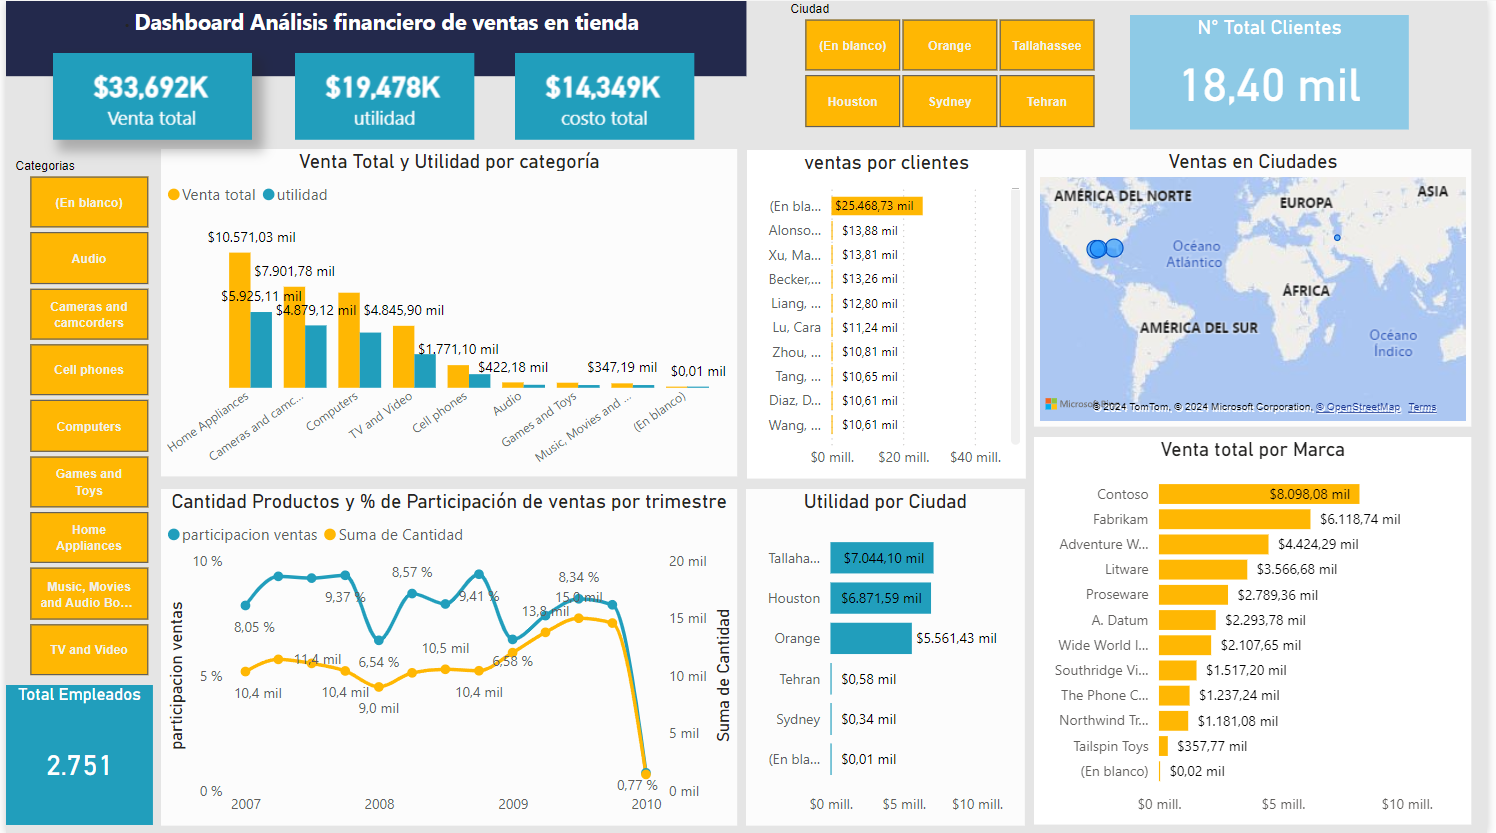

Layout of this report page (visuals, bound fields, positions):
{"tool":"powerbi","page":{"name":"Página 1","canvas":[1280,720],"ordinal":0},"visuals":[{"type":"clusteredColumnChart","title":"Venta Total y Utilidad por categoría","fields":{"Category":["Categoría.Categoria"],"Y":["Medidas.Venta total","Medidas.utilidad"]},"box":[133.6,128.2,498.2,282.7],"z":0},{"type":"map","title":"Ventas en Ciudades","fields":{"Category":["Tienda.País","Tienda.Estado","Tienda.Ciudad"],"Size":["Medidas.Venta total"]},"box":[888.2,128.2,378.2,240],"z":1000},{"type":"lineChart","title":"Cantidad Productos y % de Participación de ventas por trimestre","fields":{"Category":["Ventas.Fecha entrega.Variación.Jerarquía de fechas.Año","Ventas.Fecha entrega.Variación.Jerarquía de fechas.Trimestre","Ventas.Fecha entrega.Variación.Jerarquía de fechas.Mes","Ventas.Fecha entrega.Variación.Jerarquía de fechas.Día"],"Y2":["Ventas.Cantidad"],"Y":["Medidas.participacion ventas"]},"box":[133.6,421.8,498.2,290.9],"z":2000},{"type":"slicer","fields":{"Values":["Categoría.Categoria"]},"box":[0,135.5,141.8,449.1],"z":3000},{"type":"textbox","box":[0,0,640,64.5],"z":4000},{"type":"clusteredBarChart","title":"Utilidad por Ciudad","fields":{"Category":["Tienda.Ciudad"],"Y":["Medidas.utilidad"]},"box":[640,421.8,240.9,290.9],"z":5000},{"type":"slicer","fields":{"Values":["Tienda.Ciudad"]},"box":[670,0,290,110.9],"z":6000},{"type":"advanceCardE03760C5AB684758B56AA29F9E6C257B","fields":{"mainMeasure":["Medidas.Venta total"]},"box":[40.9,44.5,171.8,75.5],"z":7000},{"type":"advanceCardE03760C5AB684758B56AA29F9E6C257B","fields":{"mainMeasure":["Medidas.utilidad"]},"box":[250,44.5,154.5,75.5],"z":8000},{"type":"advanceCardE03760C5AB684758B56AA29F9E6C257B","fields":{"mainMeasure":["Medidas.costo total"]},"box":[440,44.5,154.5,75.5],"z":9000},{"type":"clusteredBarChart","fields":{"Y":["Medidas.Venta total"],"Category":["Producto.Marca"]},"box":[888.2,377.3,378.2,335.5],"z":10000},{"type":"card","title":"N° Total Clientes","fields":{"Values":["Cliente.Nombre"]},"box":[971.8,11.8,240.9,99.1],"z":11000},{"type":"clusteredBarChart","title":"ventas por clientes","fields":{"Category":["Cliente.Nombre"],"Y":["Medidas.Venta total"]},"box":[640.2,128.6,241.2,283.7],"z":12000},{"type":"card","title":"Total Empleados","fields":{"Values":["Tienda.Num empleados"]},"box":[0,591.4,126.8,120.6],"z":13000}]}

Visuals, with their boxes in screenshot pixels (x1, y1, x2, y2), scaled from the page's 1280x720 canvas onto the 1496x833 screenshot:
"Venta Total y Utilidad por categoría" clusteredColumnChart: [x1=156, y1=148, x2=738, y2=475]
"Ventas en Ciudades" map: [x1=1038, y1=148, x2=1480, y2=426]
"Cantidad Productos y % de Participación de ventas por trimestre" lineChart: [x1=156, y1=488, x2=738, y2=825]
slicer - Categoría.Categoria: [x1=0, y1=157, x2=166, y2=676]
textbox: [x1=0, y1=0, x2=748, y2=75]
"Utilidad por Ciudad" clusteredBarChart: [x1=748, y1=488, x2=1030, y2=825]
slicer - Tienda.Ciudad: [x1=783, y1=0, x2=1122, y2=128]
advanceCardE03760C5AB684758B56AA29F9E6C257B - Medidas.Venta total: [x1=48, y1=51, x2=249, y2=139]
advanceCardE03760C5AB684758B56AA29F9E6C257B - Medidas.utilidad: [x1=292, y1=51, x2=473, y2=139]
advanceCardE03760C5AB684758B56AA29F9E6C257B - Medidas.costo total: [x1=514, y1=51, x2=695, y2=139]
clusteredBarChart - Medidas.Venta total x Producto.Marca: [x1=1038, y1=437, x2=1480, y2=825]
"N° Total Clientes" card: [x1=1136, y1=14, x2=1417, y2=128]
"ventas por clientes" clusteredBarChart: [x1=748, y1=149, x2=1030, y2=477]
"Total Empleados" card: [x1=0, y1=684, x2=148, y2=824]
